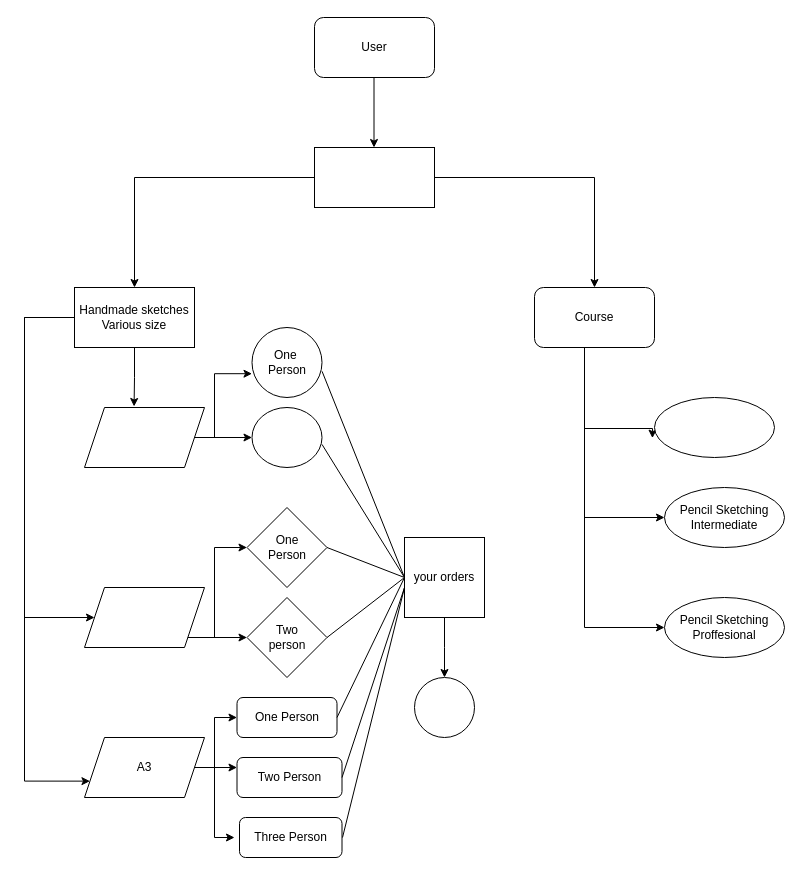
Image size: 802x875. Some labels were removed from this diagram. The centre of each missing label's shape, as x and y in pixels:
A4: the point at 144,617
A5: the point at 144,437
address: the point at 444,707
Double Person: the point at 286,437
home Page: the point at 374,177
Pencil sketching Beginner: the point at 714,427
